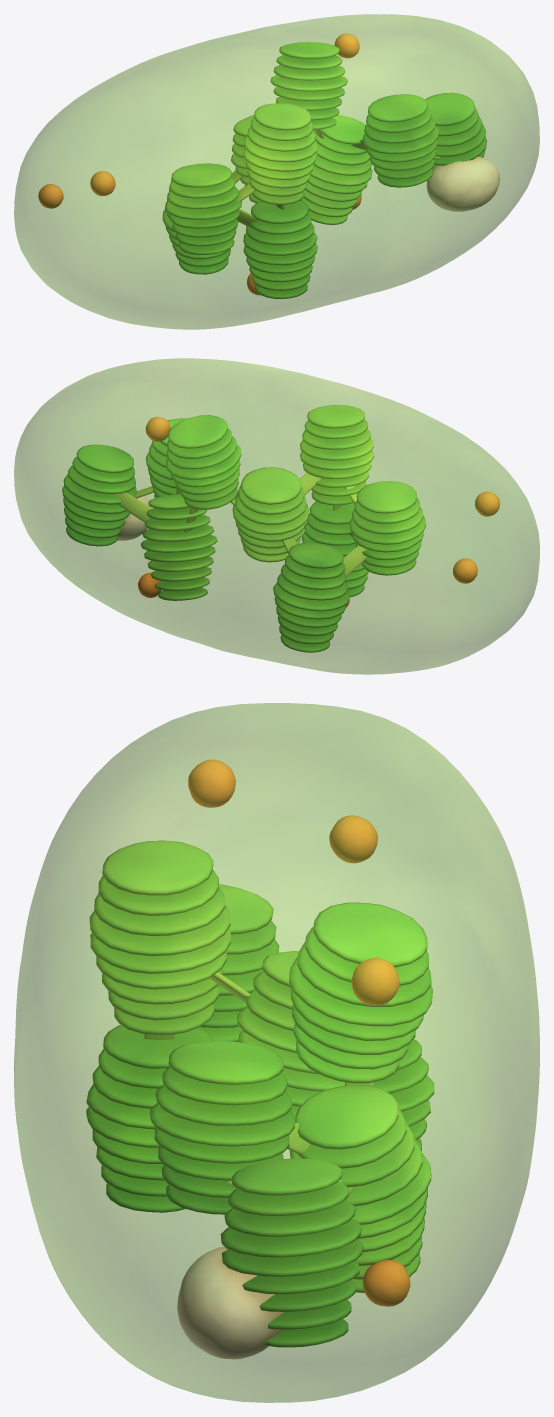
File: chloroplast.glb
3 views of the same model, one above another, from view 1: azimuth 30°, elevation 25°; view 2: azimuth 150°, elevation 25°; view 3: azimuth 270°, elevation 25° (orthographic). The views are drawn at different scales.
Visible parts, largest first — view 1: chloroplast-envelope, chloroplast-grana, chloroplast-globules, chloroplast-stroma; view 2: chloroplast-envelope, chloroplast-grana, chloroplast-globules, chloroplast-stroma; view 3: chloroplast-envelope, chloroplast-grana, chloroplast-globules, chloroplast-stroma.
Part boxes in pixels (box(x1,y1,x2,y2)): chloroplast-envelope: box(14, 14, 539, 329); chloroplast-grana: box(162, 42, 486, 298); chloroplast-globules: box(38, 33, 499, 295); chloroplast-stroma: box(231, 129, 440, 228); chloroplast-envelope: box(14, 358, 539, 674); chloroplast-grana: box(62, 405, 426, 652); chloroplast-globules: box(117, 417, 499, 607); chloroplast-stroma: box(114, 467, 367, 576); chloroplast-envelope: box(14, 703, 539, 1402); chloroplast-grana: box(86, 840, 434, 1347); chloroplast-globules: box(177, 759, 410, 1359); chloroplast-stroma: box(144, 972, 373, 1200).
Size of what is drawn, in the model's own units: 5.01 by 2.4 by 2.41.
